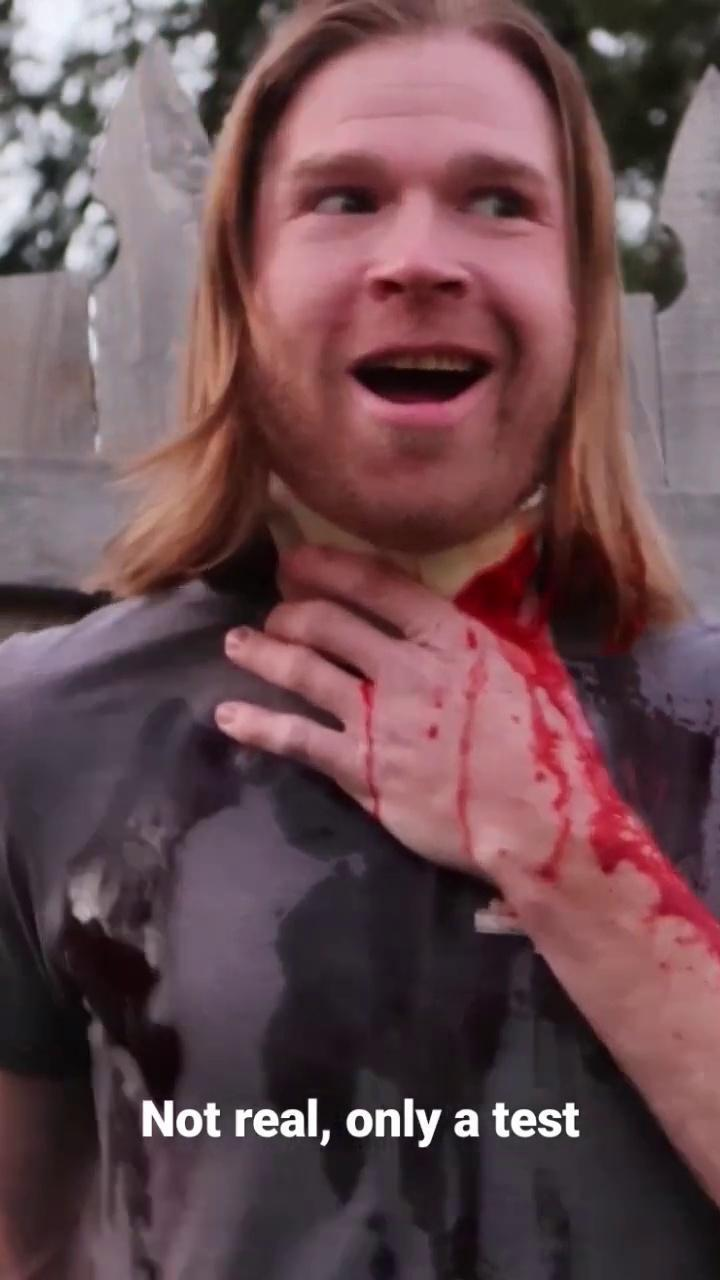Fire: (566, 621, 719, 918), (534, 742, 720, 960), (384, 602, 495, 878), (454, 534, 570, 702), (531, 686, 617, 810), (358, 679, 381, 821)
